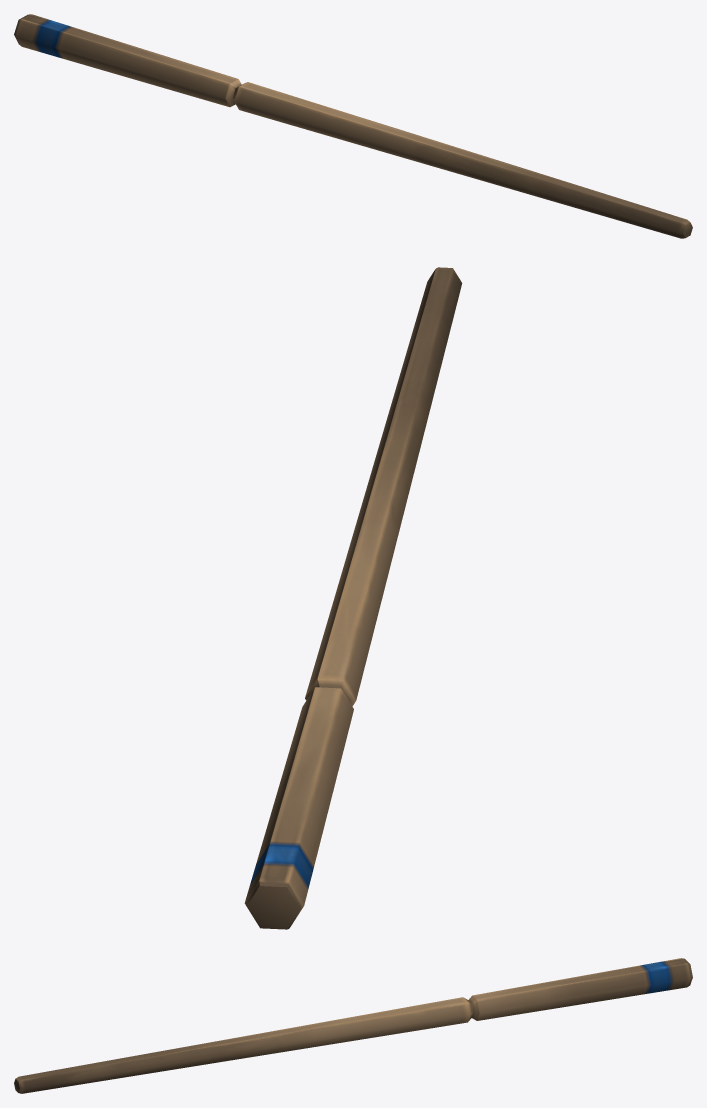
The model's file is Chopstick_Free.fbx.
The picture shows the model from 3 angles, top to bottom: view 1: azimuth 30°, elevation 25°; view 2: azimuth 150°, elevation 25°; view 3: azimuth 270°, elevation 25°; orthographic projection. The views are drawn at different scales.
Visible parts, largest first — view 1: Chopstick_Free; view 2: Chopstick_Free; view 3: Chopstick_Free.
Part boxes in pixels (x1,y1,x2,y2): Chopstick_Free: [14, 14, 692, 238]; Chopstick_Free: [244, 267, 462, 929]; Chopstick_Free: [14, 958, 692, 1093].
Bounding box in the file's own units: 21.7 × 2.08 × 47.99.
